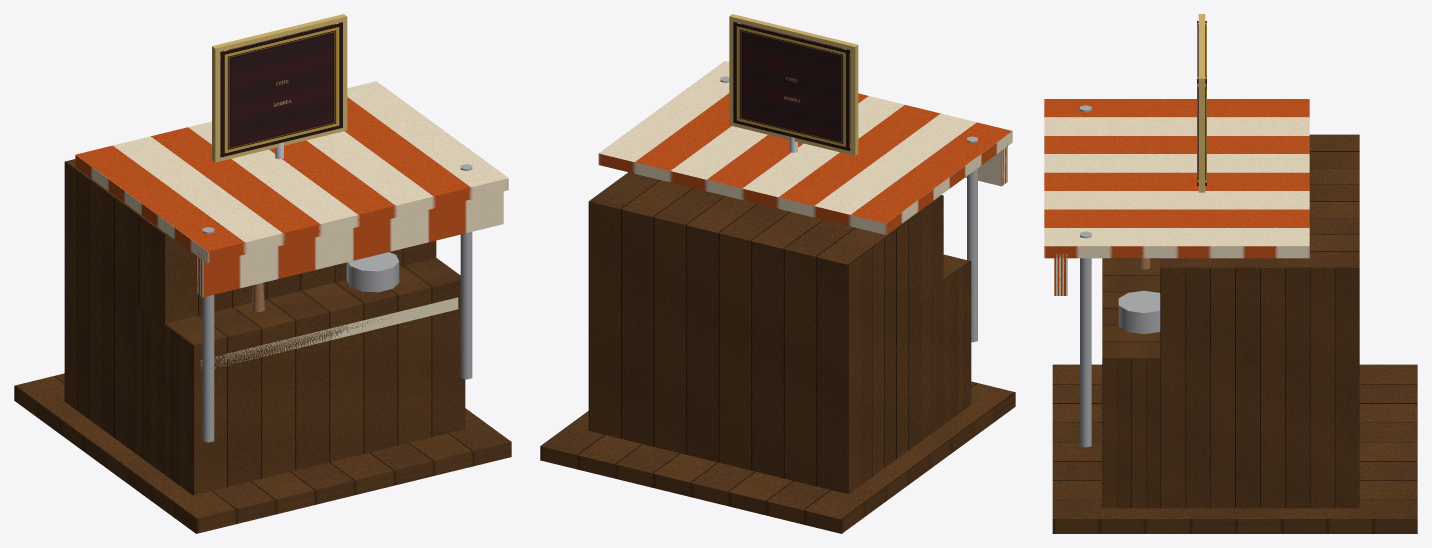
Rendered from vendor_turkey.glb.
3 renders of one model, left to right at view 1: azimuth 30°, elevation 25°; view 2: azimuth 150°, elevation 25°; view 3: azimuth 270°, elevation 25°, orthographic. The views are drawn at different scales.
Parts seen in each view (by area): view 1: base, sign; view 2: base, sign; view 3: base, sign.
Part boxes in pixels (<box>): base: <box>14,81,511,533</box>; sign: <box>212,14,347,162</box>; base: <box>540,61,1015,533</box>; sign: <box>729,14,858,155</box>; base: <box>1044,99,1417,533</box>; sign: <box>1197,14,1206,192</box>.
Size of the model in its own units: 2.2 by 2.73 by 2.25.
Materials: 8 (3 with a texture image).
